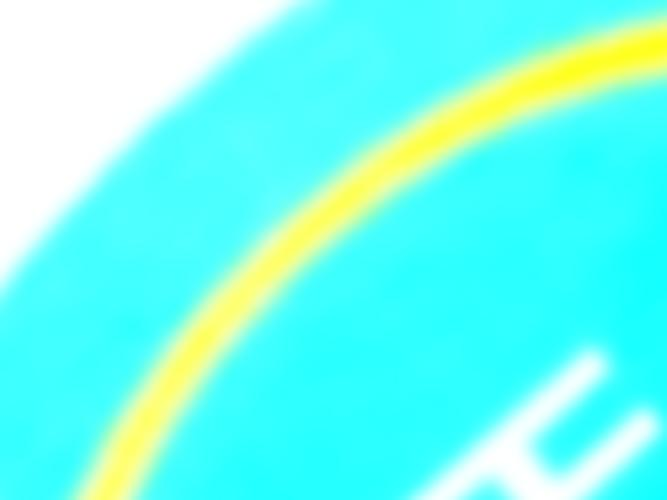Apron: (65, 4, 667, 500)
